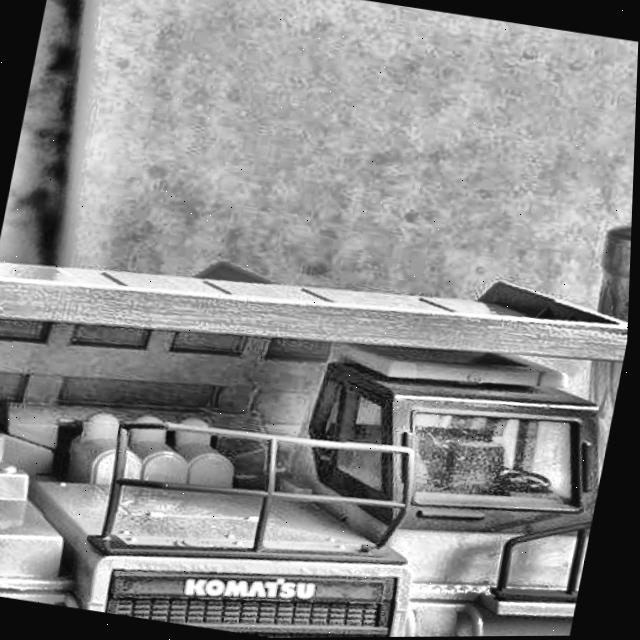dump_truck: (0, 192, 634, 640)
